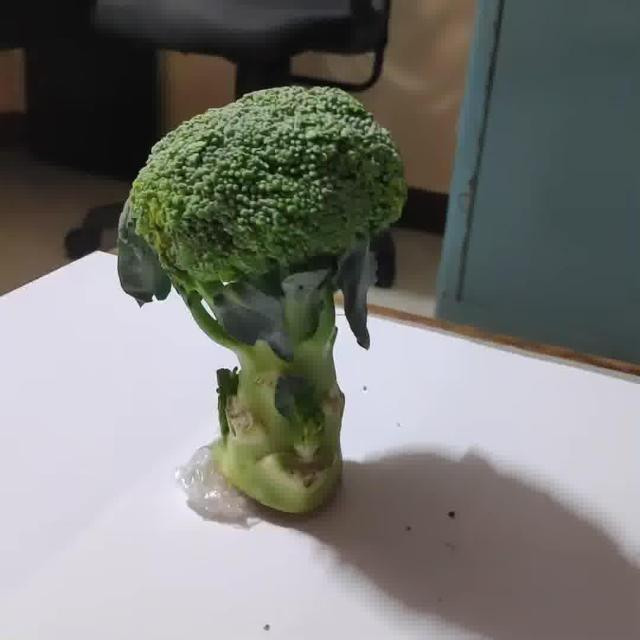Broccoli: (117, 87, 407, 515)
